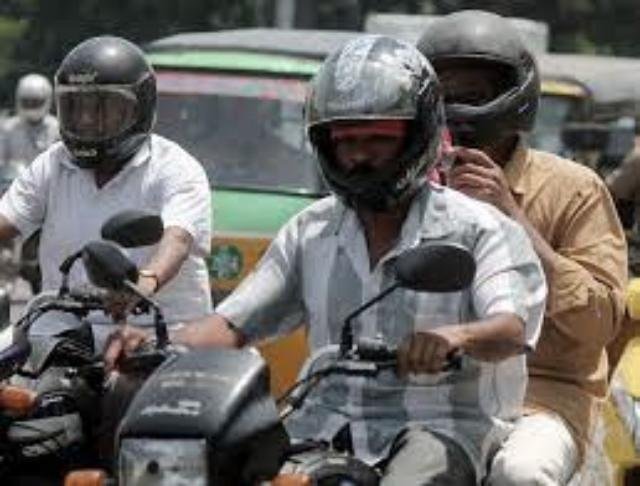helm: (299, 37, 446, 215), (415, 11, 544, 162), (54, 34, 161, 174)
